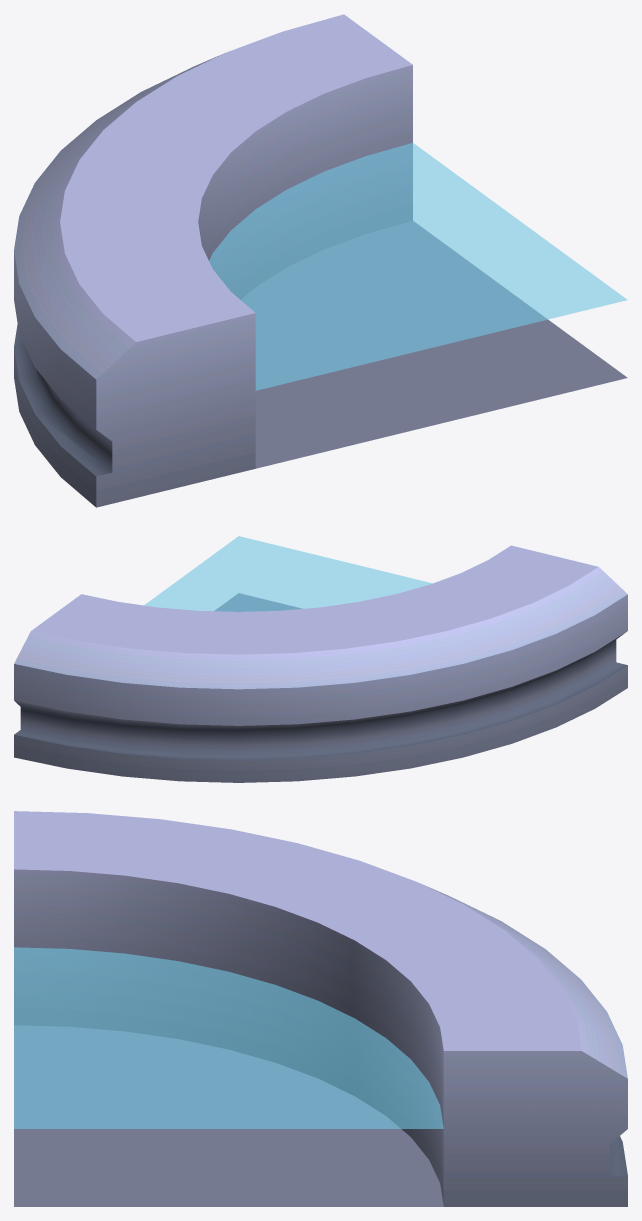
Rendered from fountain-curved.glb.
3 views of the same model, one above another, from view 1: azimuth 30°, elevation 25°; view 2: azimuth 150°, elevation 25°; view 3: azimuth 270°, elevation 25° (orthographic). The views are drawn at different scales.
Parts seen in each view (by area): view 1: fountain-curved, (_ignore); view 2: fountain-curved, (_ignore); view 3: fountain-curved, (_ignore).
Part boxes in pixels (bbox=[...]): fountain-curved: bbox=[14, 14, 627, 507]; (_ignore): bbox=[209, 143, 627, 390]; fountain-curved: bbox=[14, 545, 627, 782]; (_ignore): bbox=[144, 536, 432, 611]; fountain-curved: bbox=[14, 811, 627, 1206]; (_ignore): bbox=[14, 947, 443, 1128].
Bounding box in the file's own units: 1 × 0.28 × 1.
Materials: 2 (1 with a texture image).
